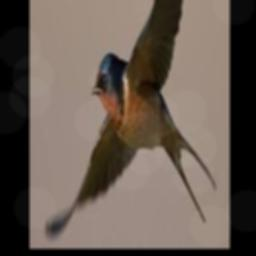Swallow: (42, 0, 215, 248)
